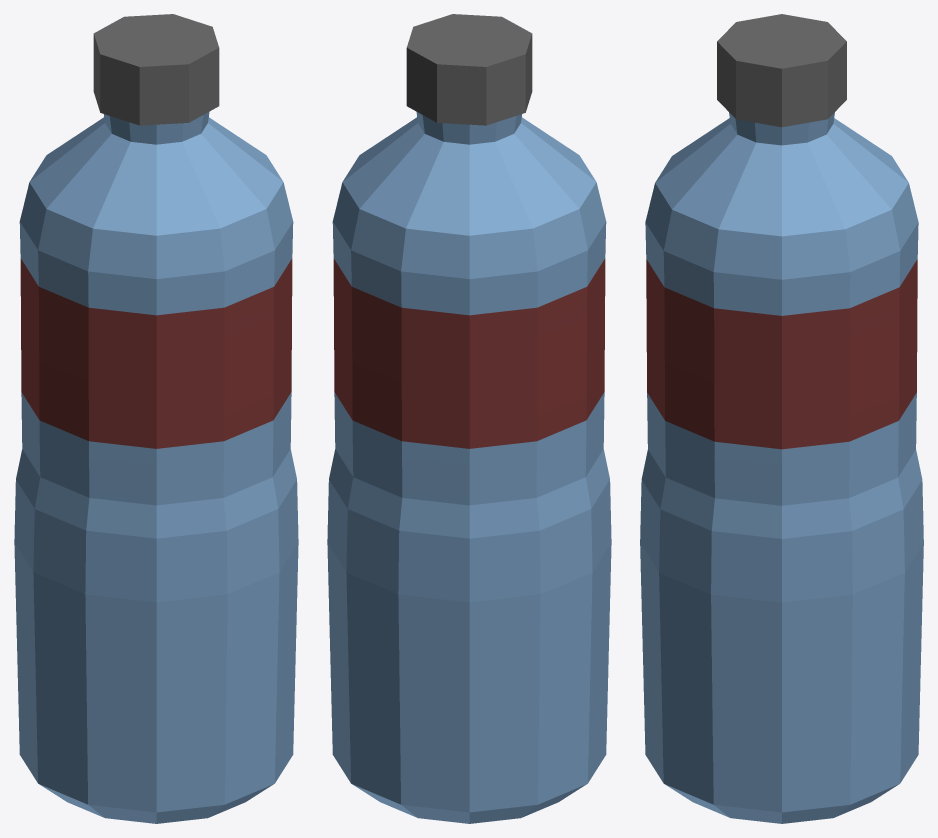
File: WaterBottle 3.glb
The picture shows the model from 3 angles, left to right: view 1: azimuth 30°, elevation 25°; view 2: azimuth 150°, elevation 25°; view 3: azimuth 270°, elevation 25°; orthographic projection.
Visible parts, largest first — view 1: WaterBottle_3; view 2: WaterBottle_3; view 3: WaterBottle_3.
Boxes of the visible parts, <box> form: WaterBottle_3: <box>14,14,298,823</box>; WaterBottle_3: <box>327,14,611,823</box>; WaterBottle_3: <box>640,14,923,823</box>.
Bounding box in the file's own units: 0.1249 × 0.3588 × 0.1249.
